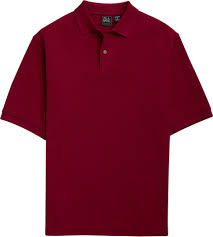C_polo shirt: (10, 1, 213, 232)
